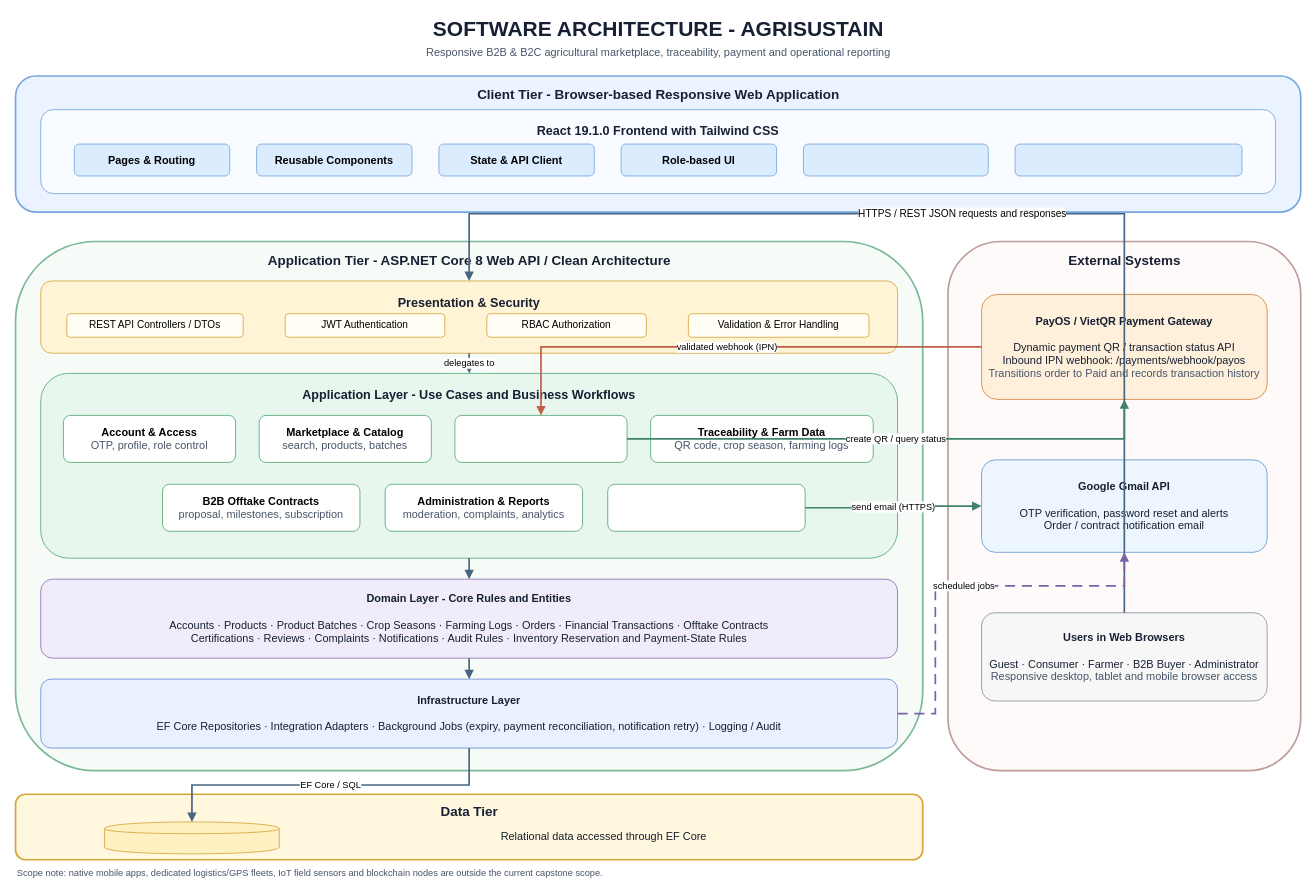
This 1315x895 diagram has some shape labels left out. Here are the shapes that lost their labels. From the top down, the centre of each, then its label:
At point 895,159: "Marketplace / QR Views".
At point 1128,159: "Consumer, Farmer, B2B, Admin".
At point 540,438: "Ordering & Payment cart, checkout, transactions".
At point 706,507: "Notifications in-app messages and email requests".
At point 191,837: "Microsoft SQL Server".
